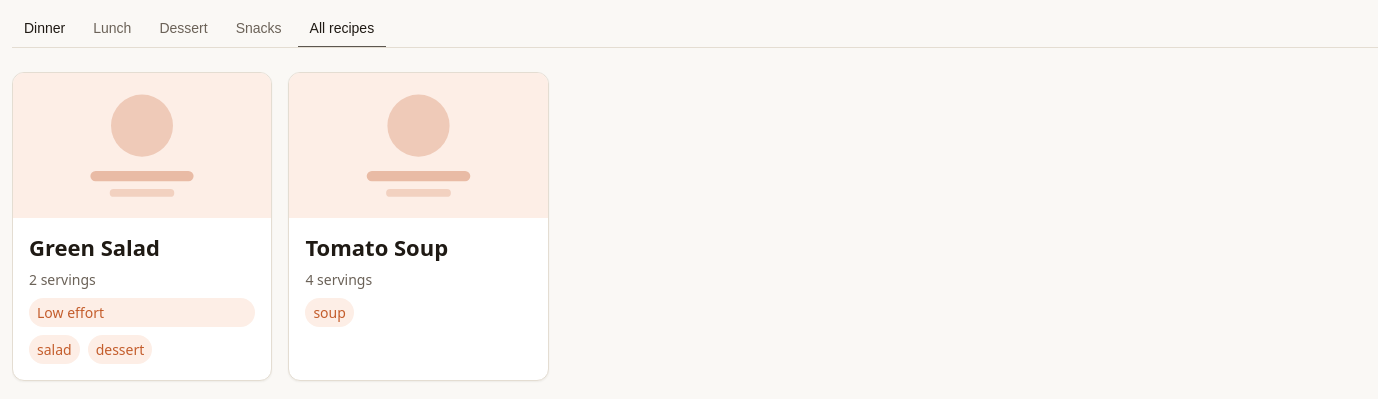
HomePage › filters recipes when a tag on a card is clicked
Click the button with aria-label "Filter by soup" at (330, 313), box [305,298,354,327]
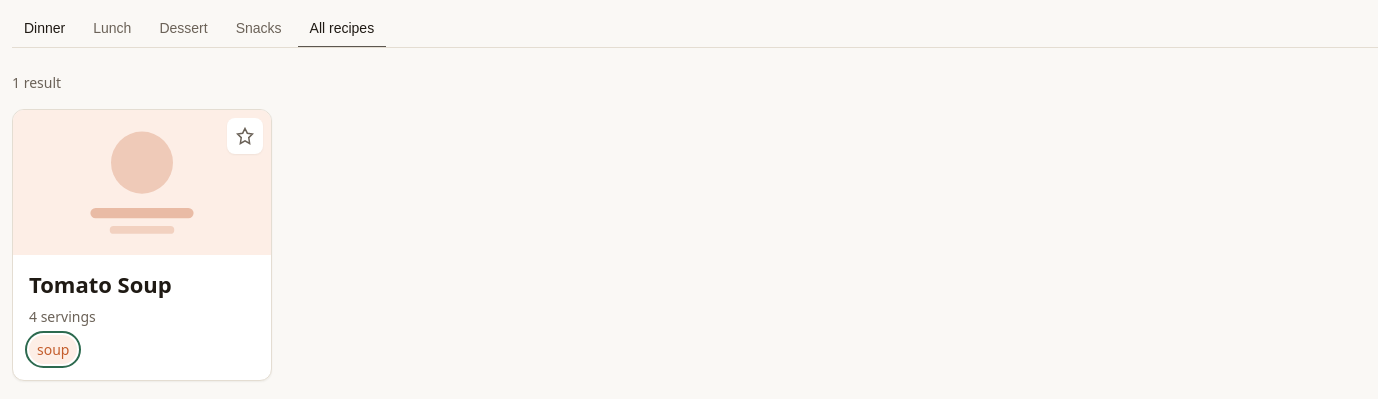
Check: the link "Tomato Soup 4 servings soup" is shown, box [13,110,271,380]
Check: the link "Green Salad" is gone
